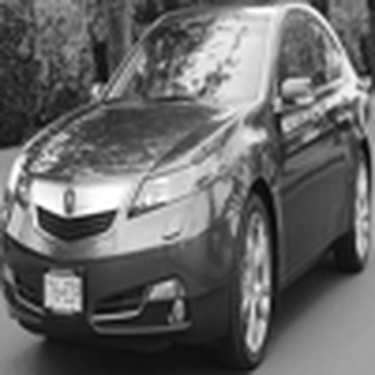car: (1, 1, 371, 372)
